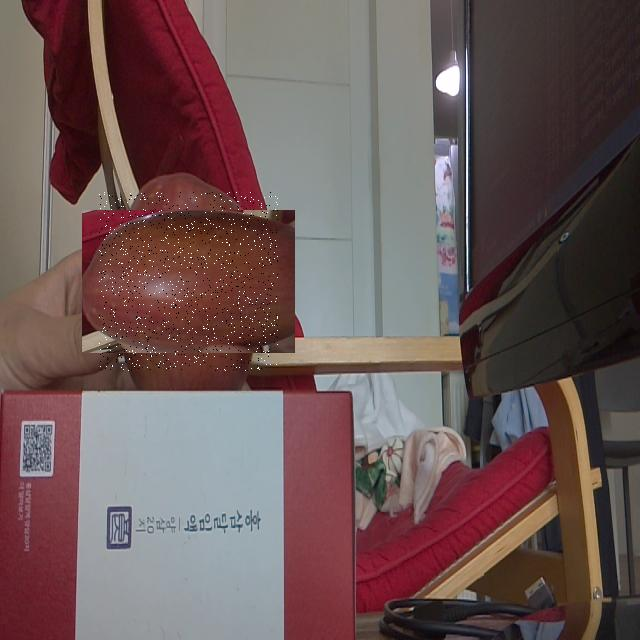apple: (99, 192, 278, 371)
